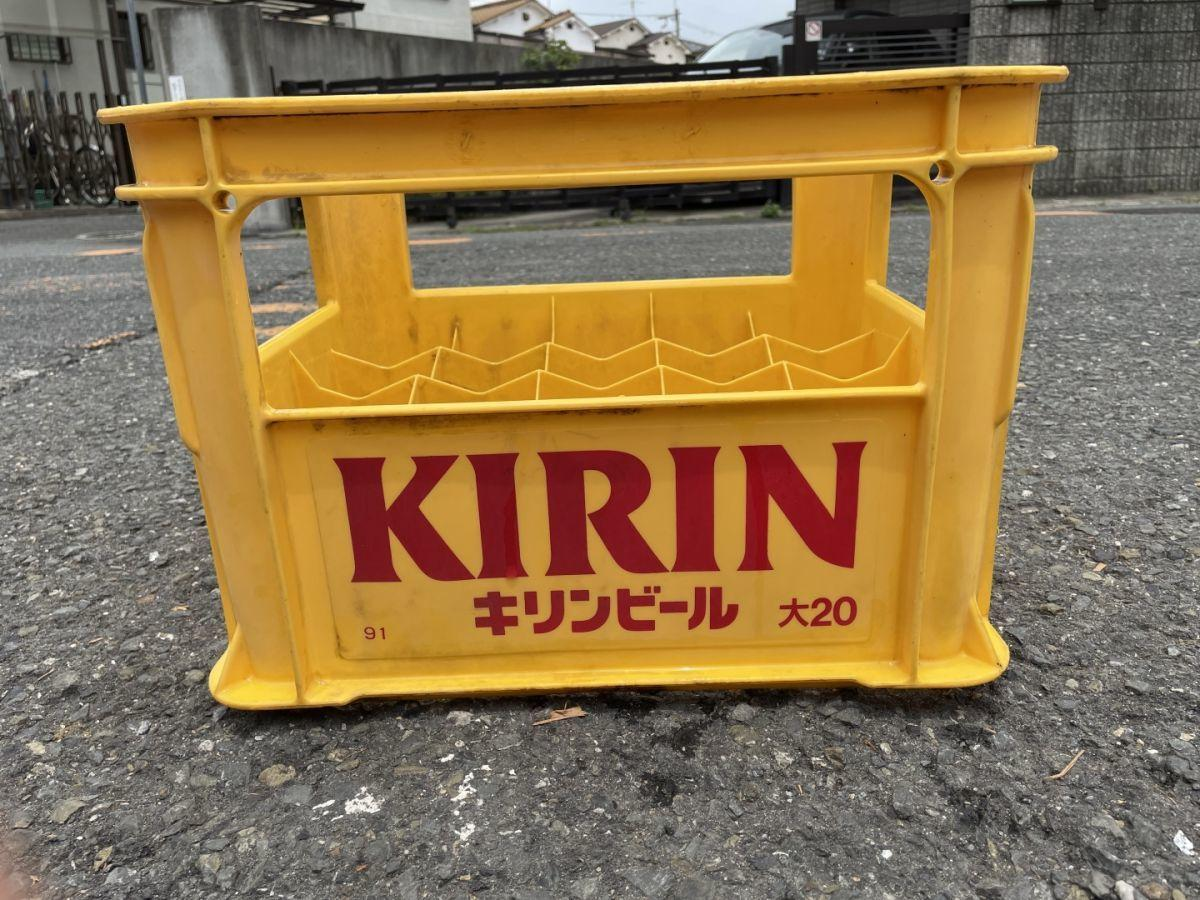plastic: (107, 55, 1058, 726)
